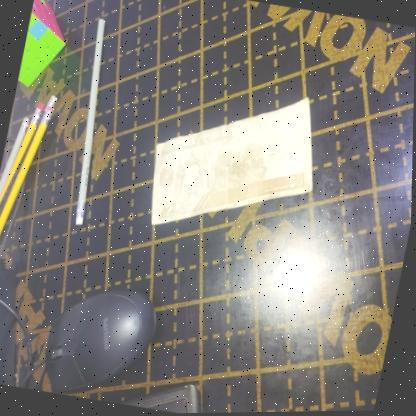five-back-vef: (140, 72, 331, 252)
